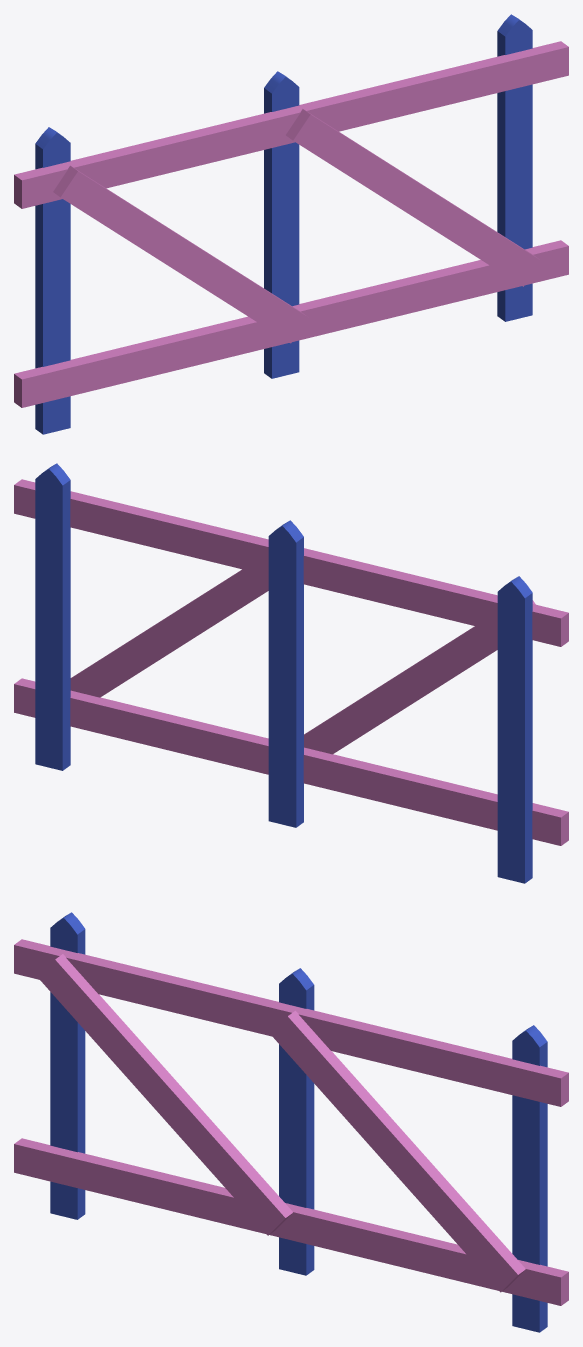
Rendered from mesh_barrière.fbx.
The picture shows the model from 3 angles, top to bottom: view 1: azimuth 30°, elevation 25°; view 2: azimuth 150°, elevation 25°; view 3: azimuth 330°, elevation 25°; orthographic projection.
Parts seen in each view (by area): view 1: Box003; view 2: Box003; view 3: Box003.
Part boxes in pixels (x1=…): Box003: x1=14, y1=14, x2=568, y2=434; Box003: x1=14, y1=463, x2=568, y2=883; Box003: x1=14, y1=912, x2=568, y2=1332.
Bounding box in the file's own units: 283 × 148 × 20.55.
